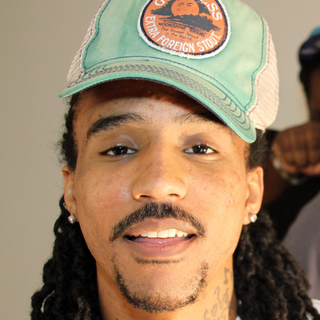eye: (95, 139, 143, 163), (179, 138, 224, 163)
